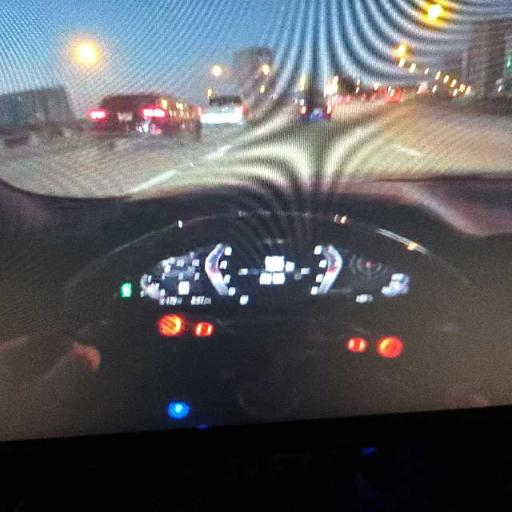car: (0, 178, 511, 439), (88, 94, 198, 135), (200, 96, 246, 125), (299, 89, 332, 121)
lane: (0, 98, 511, 196), (0, 127, 244, 196)
truck: (0, 88, 78, 145)
